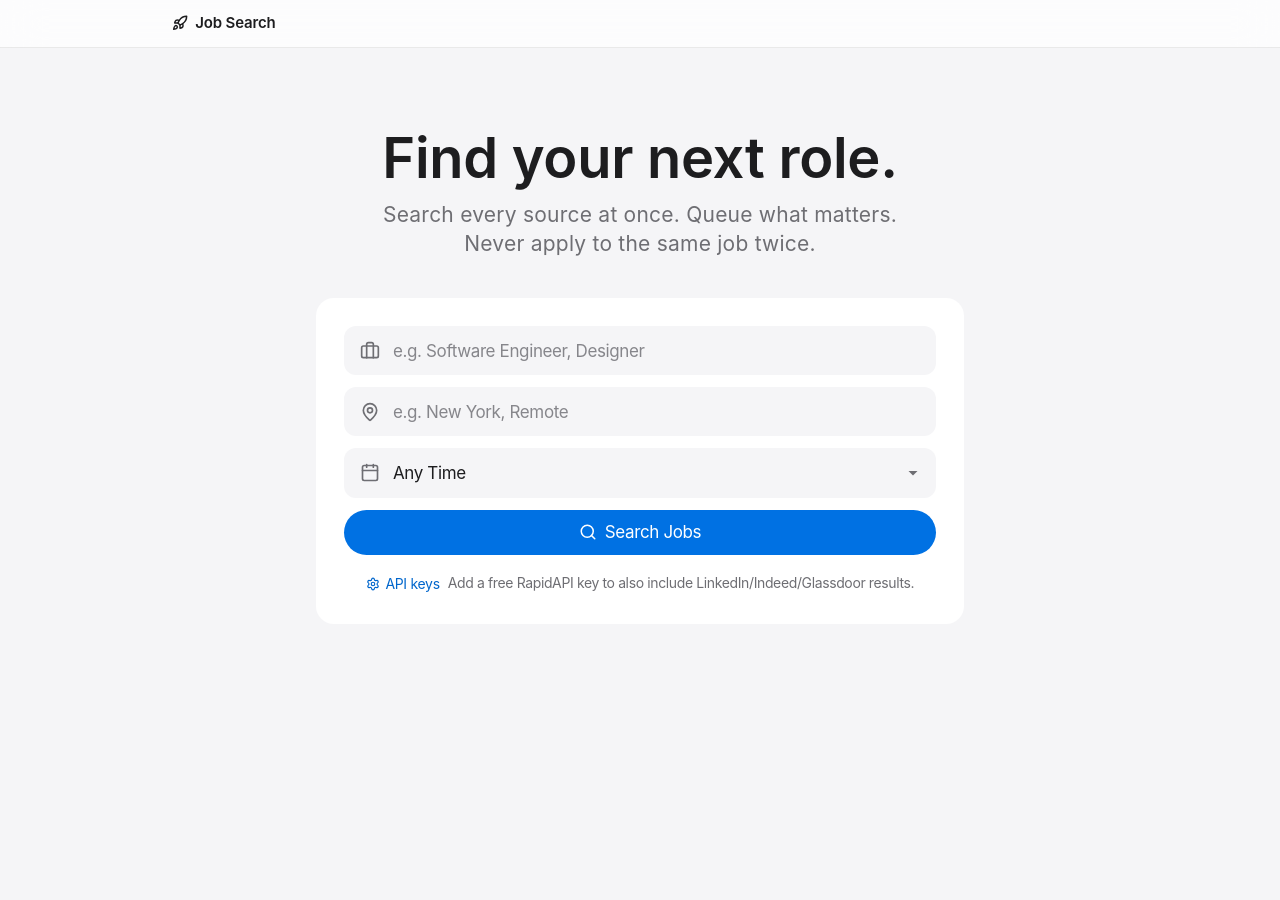
Test: accessible names › exposes the job link and the queue button as separate controls
Type "engineer" into the field named "Job title" at (640, 351), box [344,326,936,375]
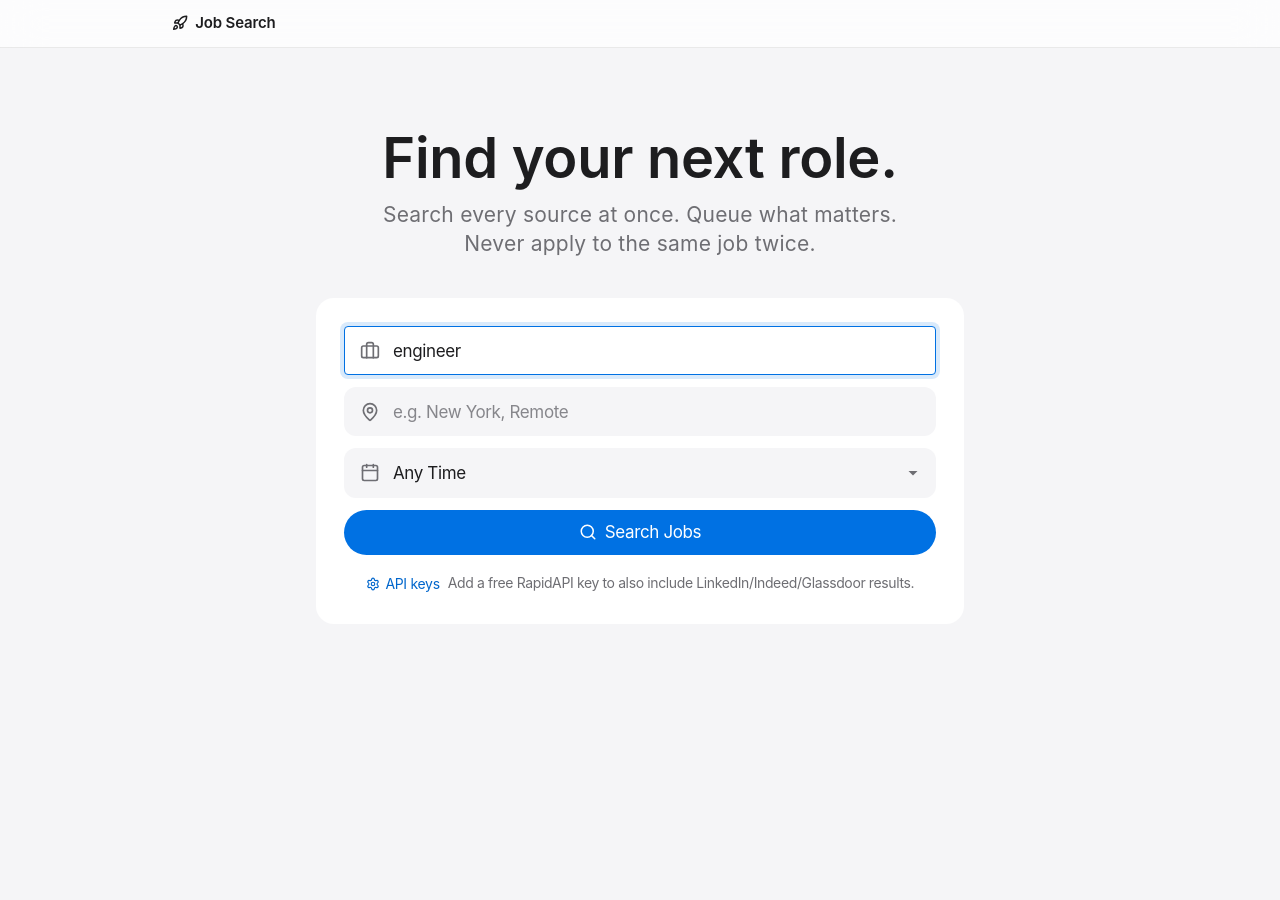
Click the button "Search Jobs" at (640, 532), box [344,510,936,555]
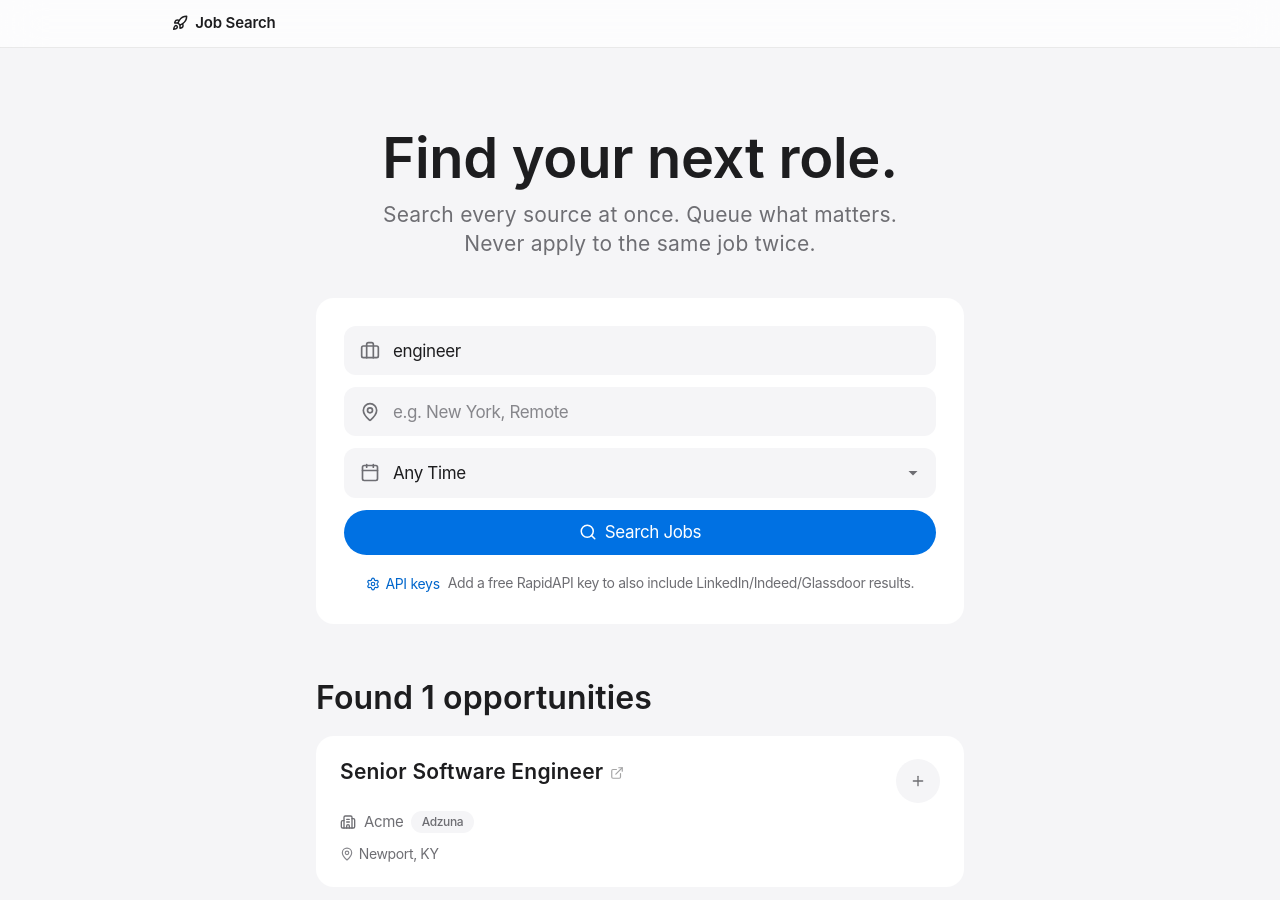
Now the button named "add senior software engineer to apply queue" is shown, box [896,758,940,802]
